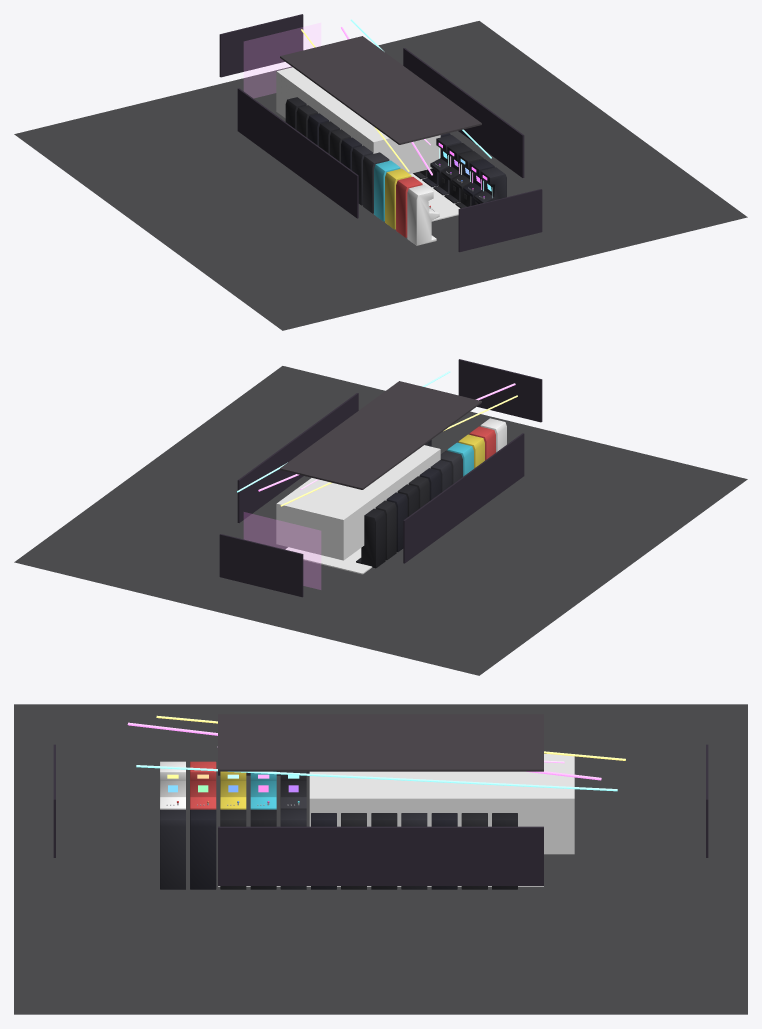
Rendered from hall.glb.
The picture shows the model from 3 angles, top to bottom: view 1: azimuth 30°, elevation 25°; view 2: azimuth 150°, elevation 25°; view 3: azimuth 270°, elevation 25°; orthographic projection. The views are drawn at different scales.
Parts seen in each view (by area): view 1: Ground, Ceiling, Wall_L, Fog, Wall_Near, Wall_R, Wall_Far, FarHaze, Cab_L0, Cab_R0, Cab_L1, Cab_R3 (+7 smaller); view 2: Ground, Ceiling, Fog, Wall_L, Wall_Far, Wall_R, Wall_Near, FarHaze, Cab_L11, Floor, Cab_L10, Cab_L9; view 3: Ground, Wall_R, Ceiling, Fog, Cab_R1, Cab_R0, Neon_C, Cab_L1, Cab_L0, Cab_L2, Cab_L4, Cab_L3 (+4 smaller).
Part boxes in pixels (x1,y1,x2,y2): Ground: (14, 21, 747, 330); Ceiling: (280, 36, 481, 144); Wall_L: (237, 88, 358, 218); Fog: (276, 67, 440, 173); Wall_Near: (458, 189, 542, 252); Wall_R: (403, 48, 524, 177); Wall_Far: (219, 14, 303, 77); FarHaze: (244, 23, 320, 97); Cab_L0: (407, 185, 439, 245); Cab_R0: (474, 167, 506, 203); Cab_L1: (396, 176, 422, 237); Cab_R3: (441, 143, 472, 203); Ground: (14, 366, 747, 675); Ceiling: (280, 381, 481, 489); Fog: (276, 445, 440, 560); Wall_L: (403, 433, 524, 563); Wall_Far: (219, 534, 303, 597); Wall_R: (237, 393, 358, 522); Wall_Near: (458, 359, 542, 422); FarHaze: (244, 512, 320, 589); Cab_L11: (356, 508, 385, 568); Floor: (285, 547, 372, 574); Cab_L10: (375, 500, 396, 560); Cab_L9: (386, 492, 407, 551); Ground: (14, 704, 747, 1014); Wall_R: (218, 826, 543, 885); Ceiling: (218, 714, 543, 771); Fog: (309, 754, 574, 854); Cab_R1: (190, 809, 216, 889); Cab_R0: (160, 809, 185, 889); Neon_C: (136, 765, 617, 791); Cab_L1: (190, 761, 216, 809); Cab_L0: (160, 761, 185, 809); Cab_L2: (220, 771, 246, 809); Cab_L4: (280, 771, 306, 809); Cab_L3: (250, 771, 276, 809).
Bounding box in the file's own units: 18 × 3.18 × 18.
